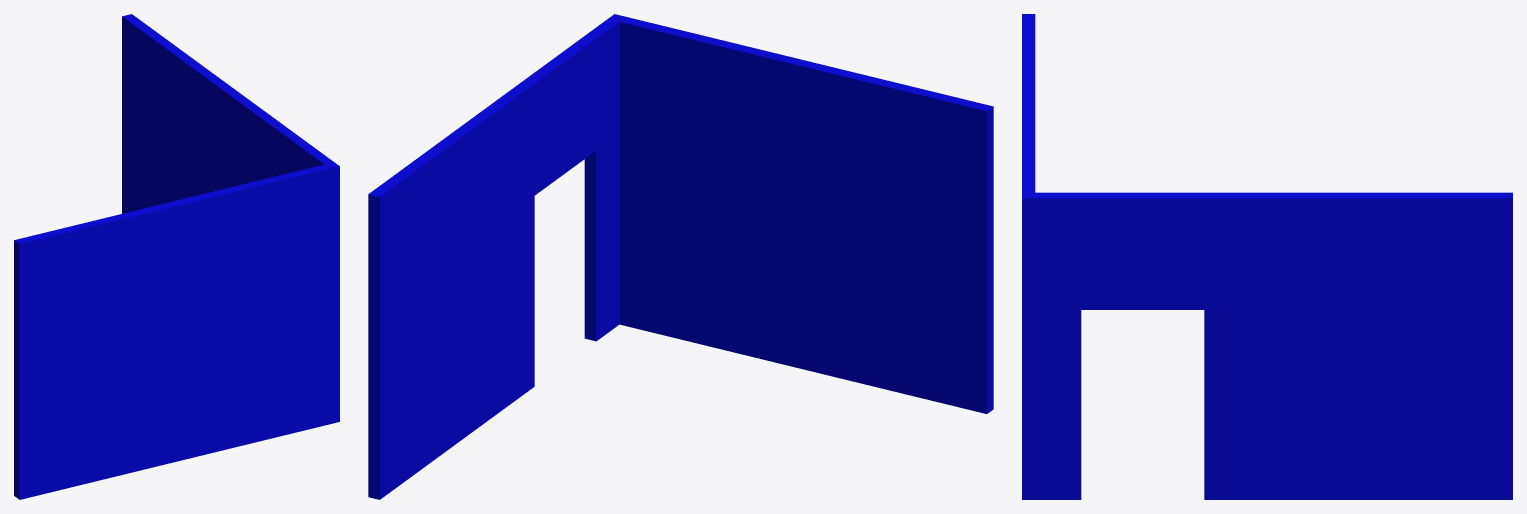
The model's file is SM_House_PartitionWall_01.fbx.
The picture shows the model from 3 angles, left to right: view 1: azimuth 30°, elevation 25°; view 2: azimuth 150°, elevation 25°; view 3: azimuth 270°, elevation 25°; orthographic projection. The views are drawn at different scales.
Parts seen in each view (by area): view 1: SM_House_PartitionWall_01; view 2: SM_House_PartitionWall_01; view 3: SM_House_PartitionWall_01.
Part boxes in pixels (left/top/right/bottom): SM_House_PartitionWall_01: left=14, top=14, right=339, bottom=499; SM_House_PartitionWall_01: left=368, top=14, right=993, bottom=499; SM_House_PartitionWall_01: left=1022, top=14, right=1512, bottom=499.
Size of the model in its own units: 426 by 480 by 325.
